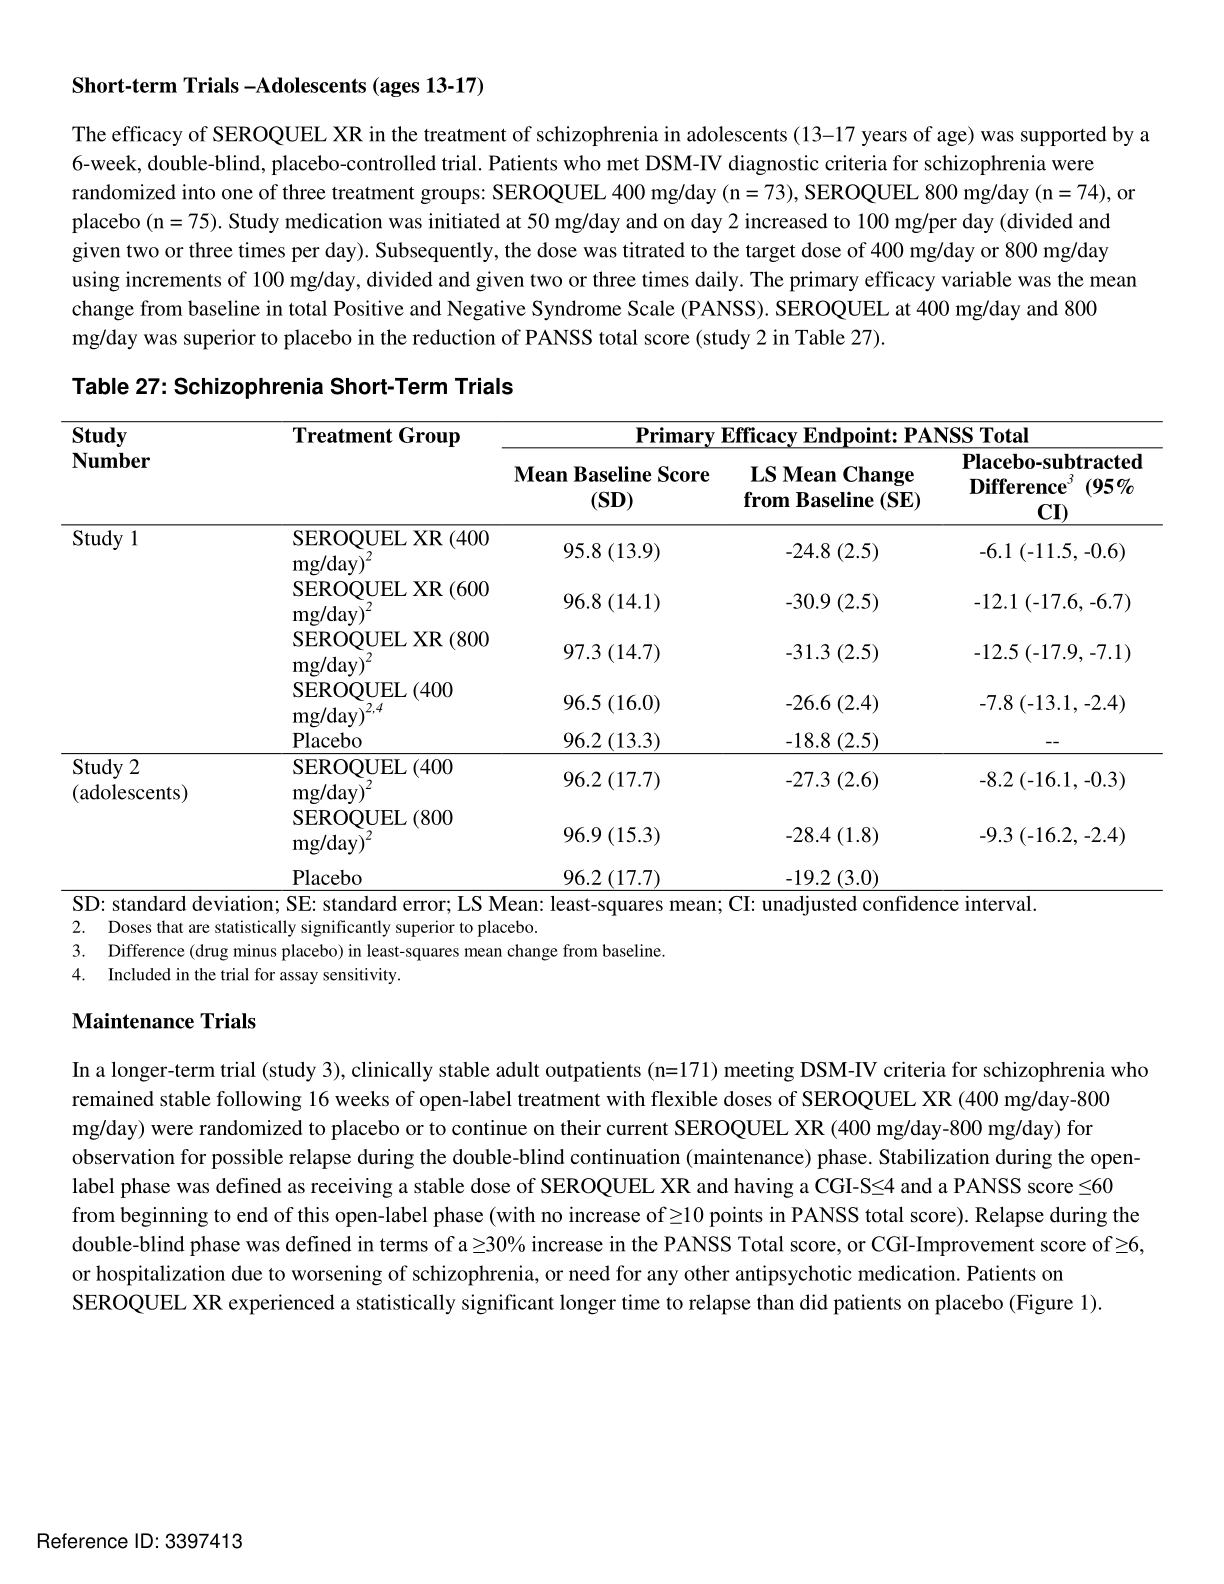partial_lined_merged_cells: (58, 418, 1165, 894)
